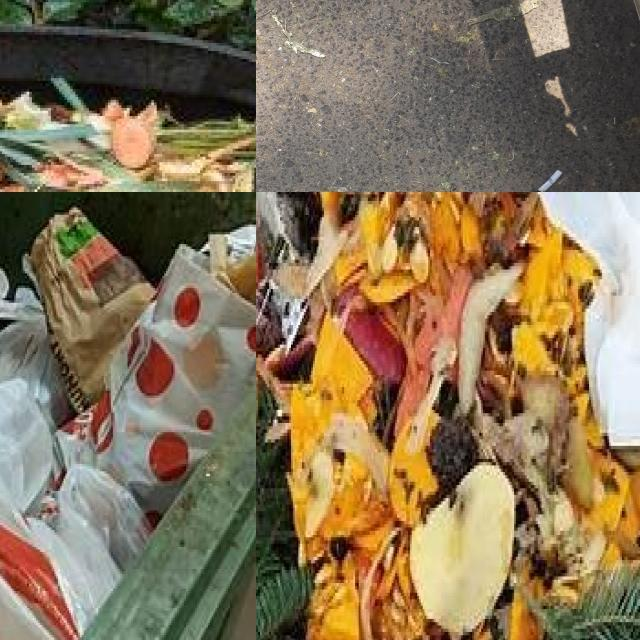Background: (256, 0, 640, 192)
Cig_bud: (533, 170, 563, 192)
Garbage: (256, 192, 640, 640), (0, 209, 256, 640), (0, 92, 256, 192)
Plastic_Bag: (0, 226, 256, 640)
Plastic_wraper: (538, 192, 640, 447)
